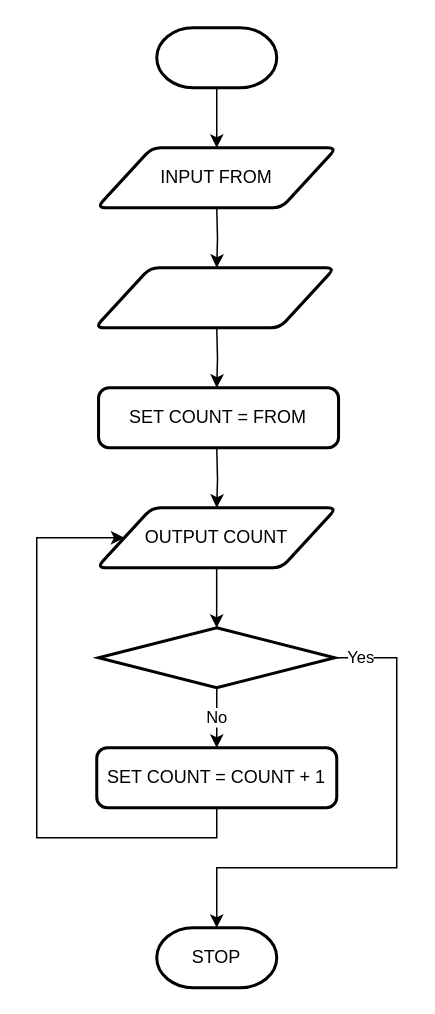
Image size: 435x1014. Some labels were removed from this diagram. The shapes that lost their labels are listed below. From the top down, each one's box as (x1, y1, x2, y2) in pixels, then its label:
(154, 26, 278, 88): START
(93, 266, 336, 328): INPUT TO
(96, 626, 336, 688): COUNT = TO?
